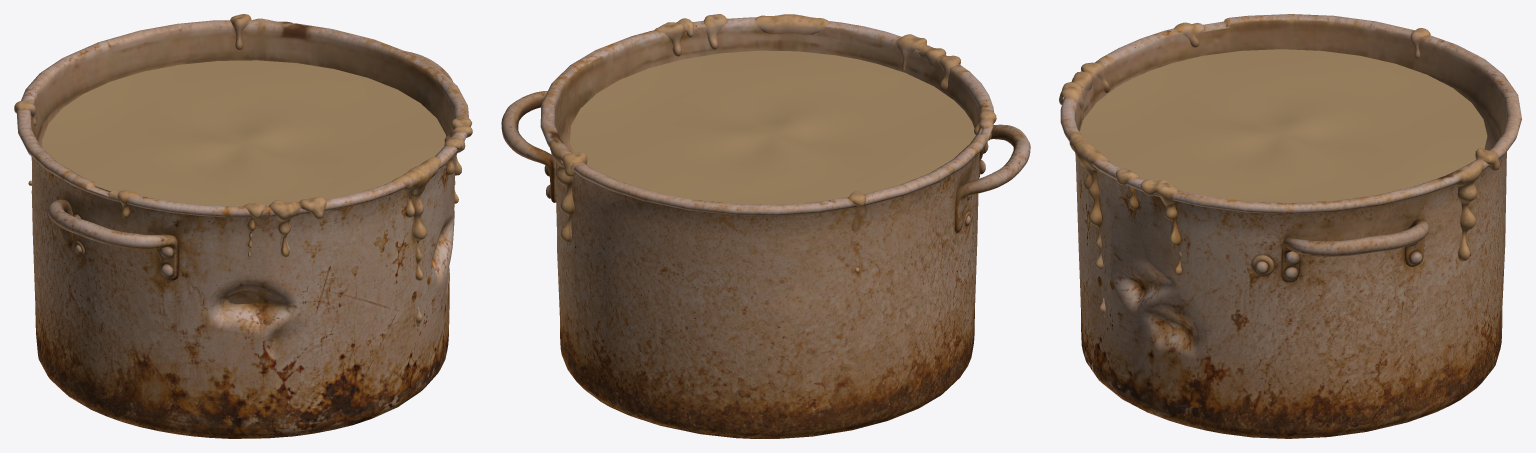
Rendered from canteen-pot.glb.
3 views of the same model, side by side, from view 1: azimuth 30°, elevation 25°; view 2: azimuth 150°, elevation 25°; view 3: azimuth 270°, elevation 25° (orthographic).
Parts seen in each view (by area): view 1: SM_BT_CanteenPot, SM_BT_CanteenPot_PorridgeSurface; view 2: SM_BT_CanteenPot, SM_BT_CanteenPot_PorridgeSurface; view 3: SM_BT_CanteenPot, SM_BT_CanteenPot_PorridgeSurface.
Boxes of the visible parts, bbox=[...] form: SM_BT_CanteenPot: bbox=[14, 14, 472, 438]; SM_BT_CanteenPot_PorridgeSurface: bbox=[42, 60, 446, 206]; SM_BT_CanteenPot: bbox=[501, 14, 1030, 438]; SM_BT_CanteenPot_PorridgeSurface: bbox=[570, 50, 975, 204]; SM_BT_CanteenPot: bbox=[1059, 14, 1521, 438]; SM_BT_CanteenPot_PorridgeSurface: bbox=[1079, 49, 1487, 202].
Bounding box in the file's own units: 0.755 × 0.4082 × 0.6745.
2 materials, 1 textured.
